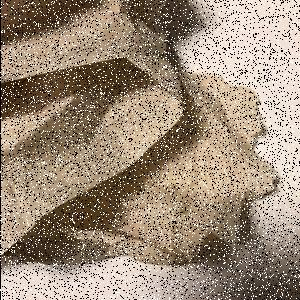Trash: (2, 2, 280, 268)
